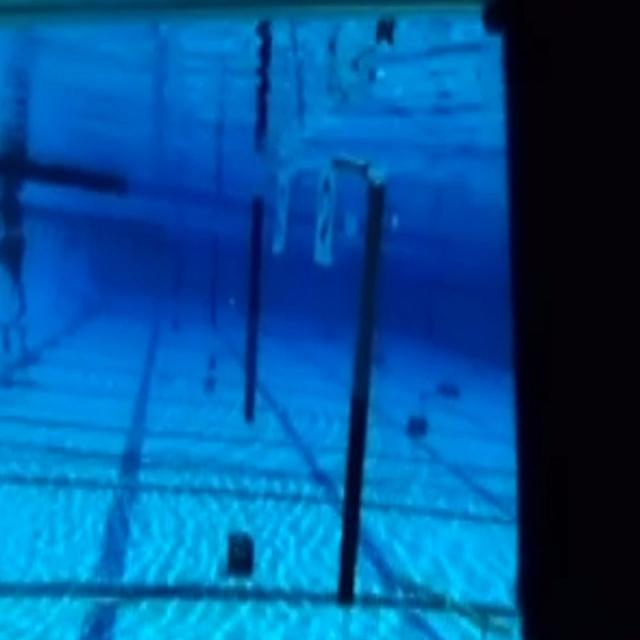Gate: (226, 148, 409, 624)
